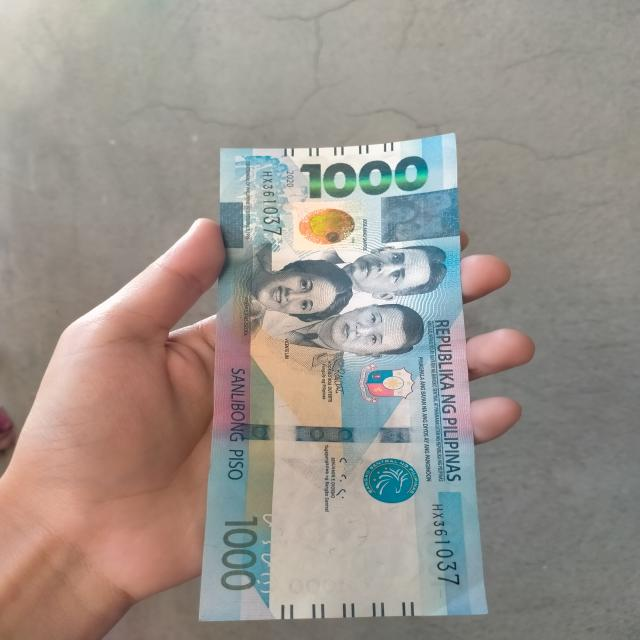concealed_value: (378, 181, 460, 243)
optically_variable_device: (282, 200, 363, 253)
security_thread: (207, 419, 471, 444)
see_through_mark: (252, 509, 293, 605)
serial_number: (422, 492, 464, 590), (247, 170, 288, 248)
value_watermark: (276, 566, 369, 597)
watermark: (274, 482, 428, 586)
